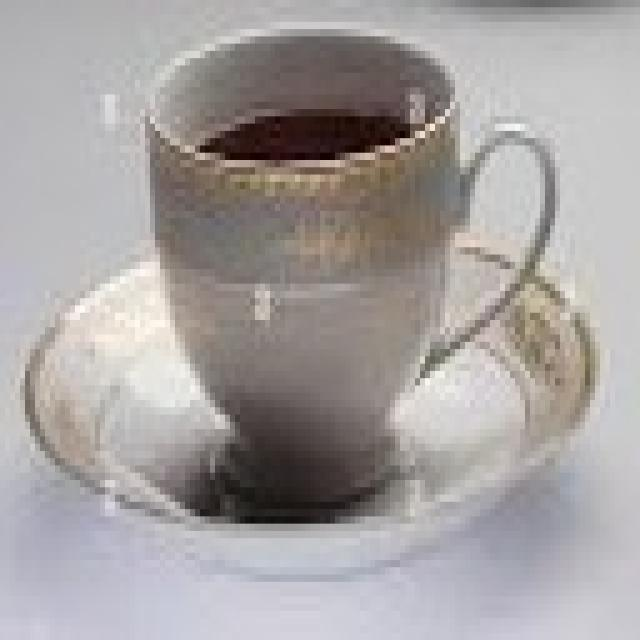taza: (337, 279, 557, 428), (79, 284, 297, 428)
